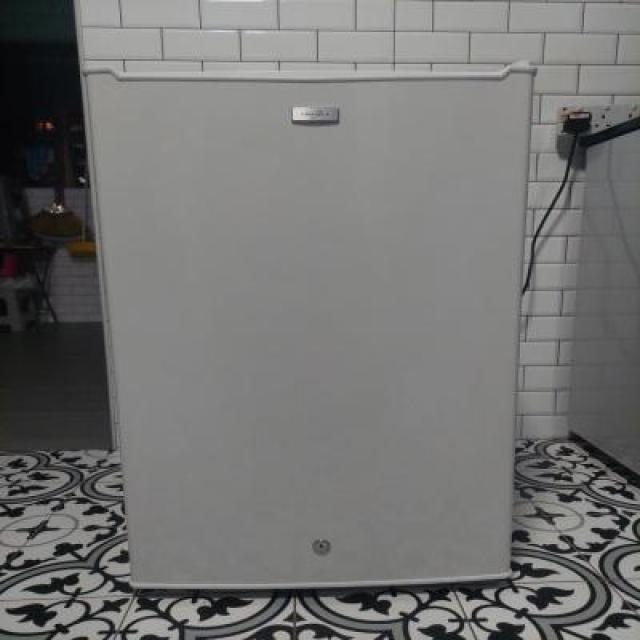refrigerator: (82, 67, 537, 584)
